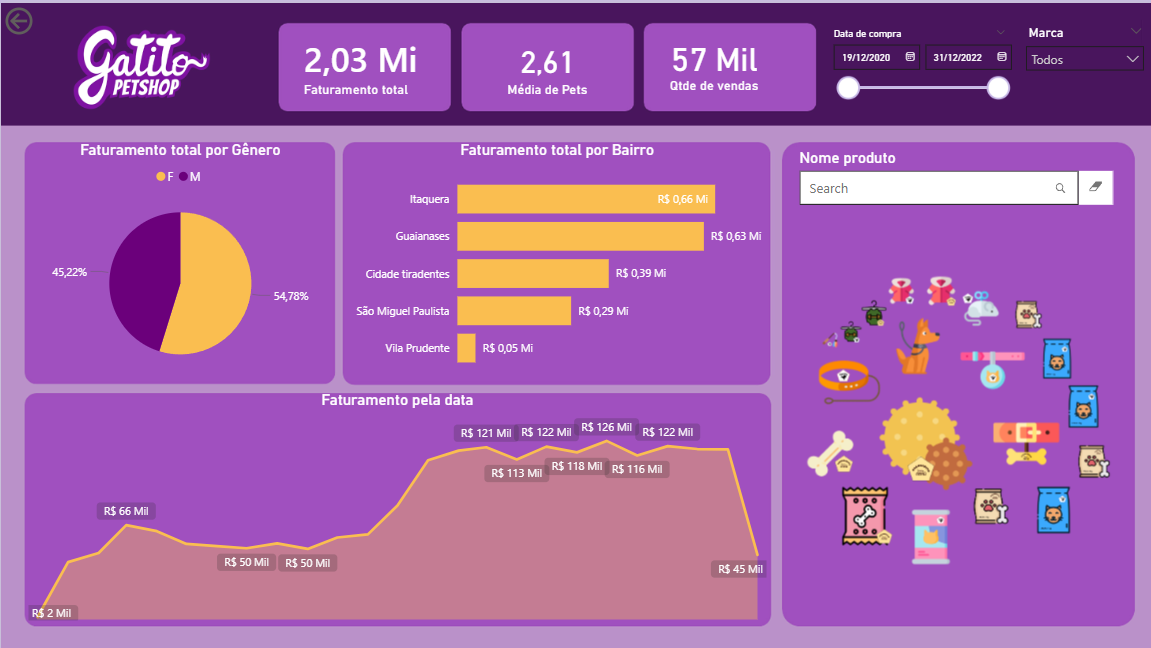

What the dashboard file says about the page in this screenshot:
{"tool":"powerbi","page":{"name":"Página 1","canvas":[1280,720],"ordinal":0},"visuals":[{"type":"card","fields":{"Values":["Avg(Clientes.Pets)"]},"box":[511.4,20,192.1,101.4],"z":0},{"type":"cardVisual","fields":{"Data":["Sum(Vendas.Quantidade)"]},"box":[714.3,20,190.7,101.4],"z":1000},{"type":"cardVisual","fields":{"Data":["Vendas.Faturamento total"]},"box":[307.5,20,192.5,100.8],"z":2000},{"type":"actionButton","box":[0,0,100,40],"z":3000},{"type":"pieChart","fields":{"Category":["Clientes.Gênero"],"Y":["Vendas.Faturamento total"]},"box":[25,153.8,347.5,268.8],"z":4000},{"type":"clusteredBarChart","fields":{"Category":["Clientes.Bairro"],"Y":["Vendas.Faturamento total"]},"box":[381.2,153.8,473.8,268.8],"z":5000},{"type":"areaChart","title":"Faturamento pela data","fields":{"Category":["Vendas.Data de compra.Variation.Hierarquia de datas.Ano","Vendas.Data de compra.Variation.Hierarquia de datas.Trimestre","Vendas.Data de compra.Variation.Hierarquia de datas.Mês","Vendas.Data de compra.Variation.Hierarquia de datas.Dia"],"Y":["Vendas.Faturamento total"]},"box":[25,431.2,830,260],"z":6000},{"type":"ImageGrid_FC5183B9_926C_45E0_B5F7_0CE9EAF1DA9B","fields":{"ImageURL":["Produtos.Url img"]},"box":[868.8,235,391.2,456.2],"z":7000},{"type":"textFilter25A4896A83E0487089E2B90C9AE57C8A","fields":{"field":["Produtos.Nome produto"]},"box":[882.5,162.5,357.5,72.5],"z":8000},{"type":"slicer","fields":{"Values":["Produtos.Marca"]},"box":[1128.8,20,151.2,101.2],"z":9000},{"type":"slicer","fields":{"Values":["Vendas.Data de compra"]},"box":[912.5,22.5,216.2,98.8],"z":10000}]}

Visuals, with their boxes in screenshot pixels (x1, y1, x2, y2), scaled from the page's 1280x720 canvas onto the 1151x648 screenshot:
card - Avg(Clientes.Pets): x1=460, y1=18, x2=633, y2=109
cardVisual - Sum(Vendas.Quantidade): x1=642, y1=18, x2=814, y2=109
cardVisual - Vendas.Faturamento total: x1=277, y1=18, x2=450, y2=109
actionButton: x1=0, y1=0, x2=90, y2=36
pieChart - Clientes.Gênero x Vendas.Faturamento total: x1=22, y1=138, x2=335, y2=380
clusteredBarChart - Clientes.Bairro x Vendas.Faturamento total: x1=343, y1=138, x2=769, y2=380
"Faturamento pela data" areaChart: x1=22, y1=388, x2=769, y2=622
ImageGrid_FC5183B9_926C_45E0_B5F7_0CE9EAF1DA9B - Produtos.Url img: x1=781, y1=212, x2=1133, y2=622
textFilter25A4896A83E0487089E2B90C9AE57C8A - Produtos.Nome produto: x1=794, y1=146, x2=1115, y2=212
slicer - Produtos.Marca: x1=1015, y1=18, x2=1150, y2=109
slicer - Vendas.Data de compra: x1=821, y1=20, x2=1015, y2=109
